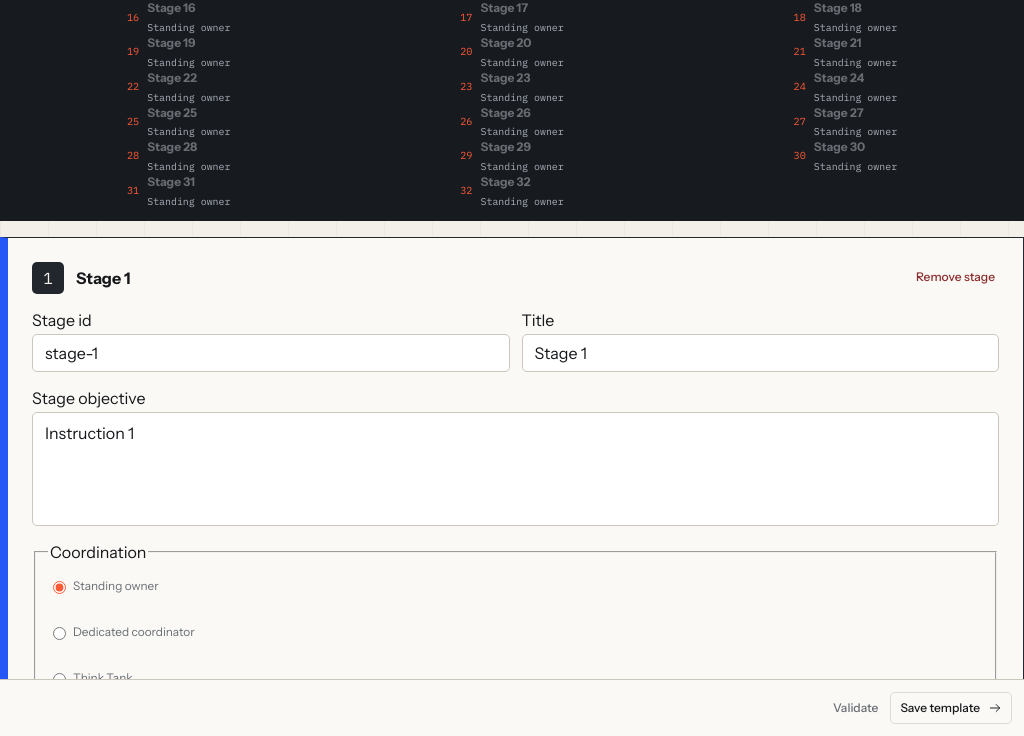
TemplateEditor focused workspace › edits one selected stage at a time and preserves its unsaved draft
(page scrolled)
Expected: the text "Stage 32" is shown, x1=480 y1=174 x2=530 y2=189
Replace the text in the field labelled "Stage id" with "work": (271, 353) x1=32 y1=334 x2=510 y2=372
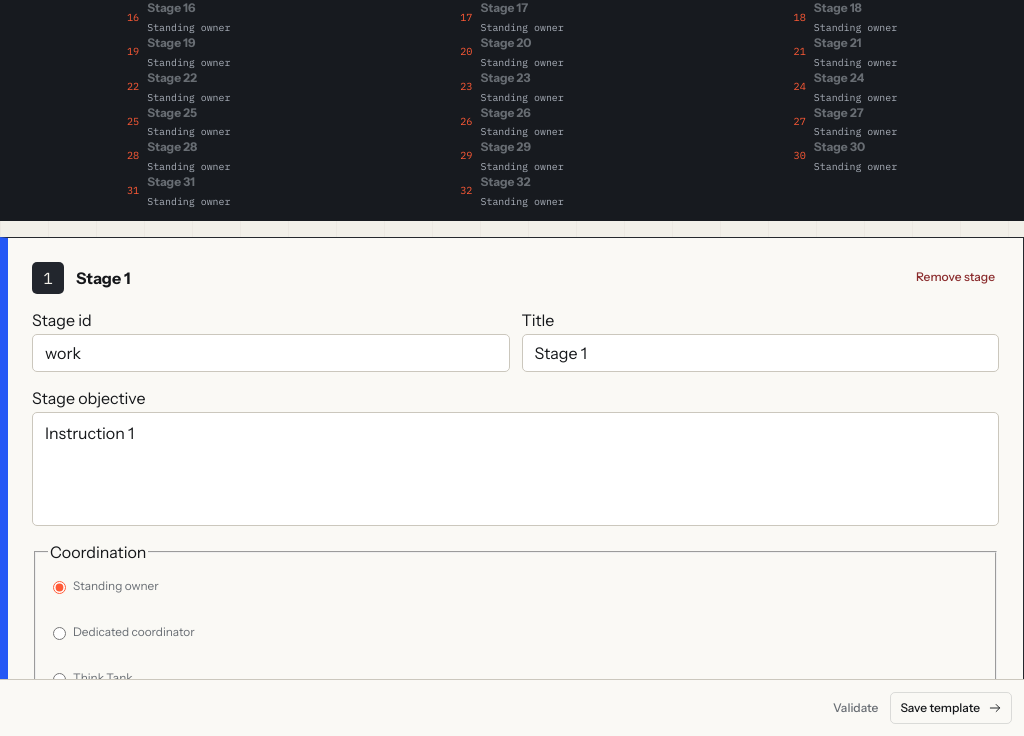
Click the button "32 Stage 32 Standing owner": (512, 191) x1=345 y1=174 x2=679 y2=209
(page scrolled)
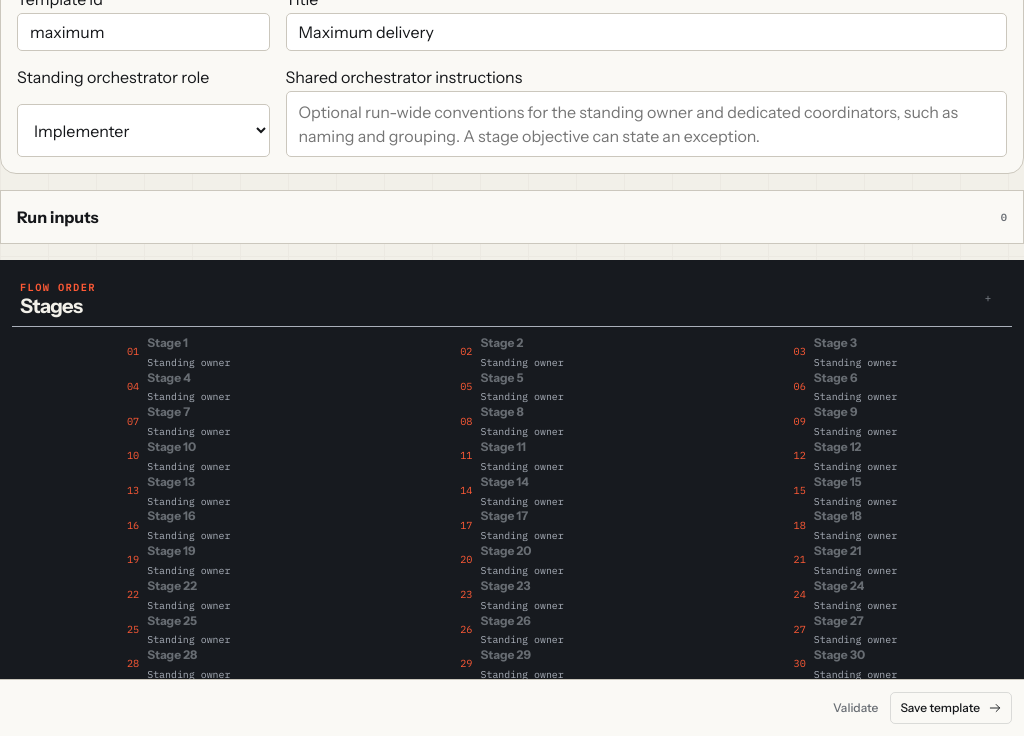
Click the button "01 Stage 1 Standing owner": (179, 352) x1=12 y1=335 x2=345 y2=370
(page scrolled)
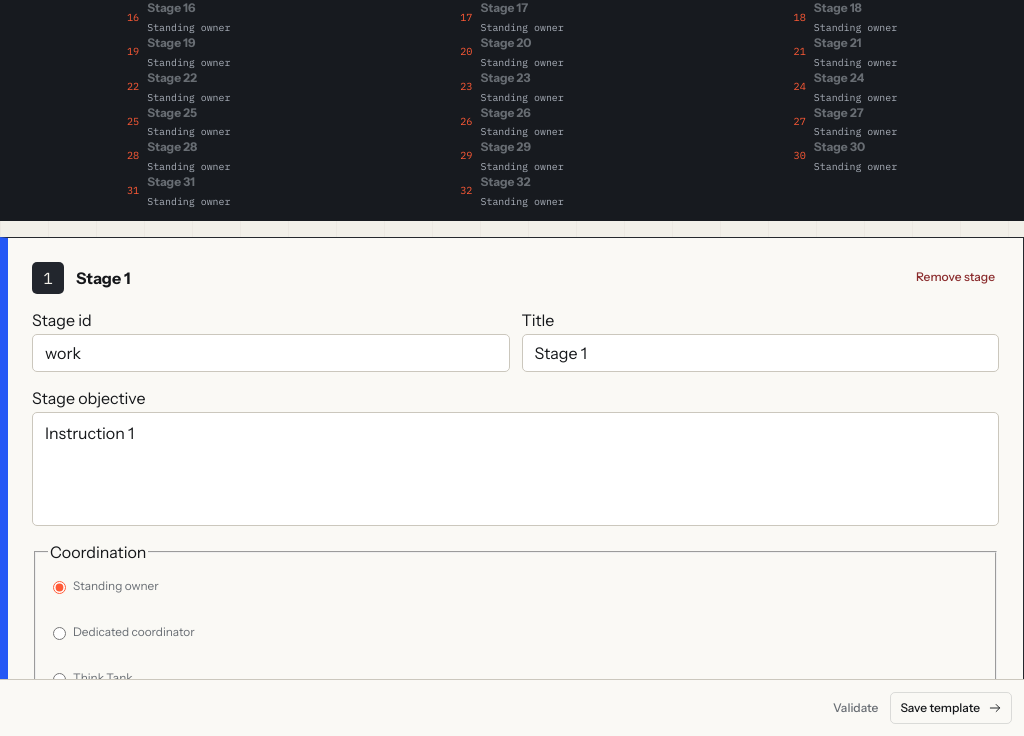
Expected: the field labelled "Stage id" holds "work", x1=32 y1=334 x2=510 y2=372
